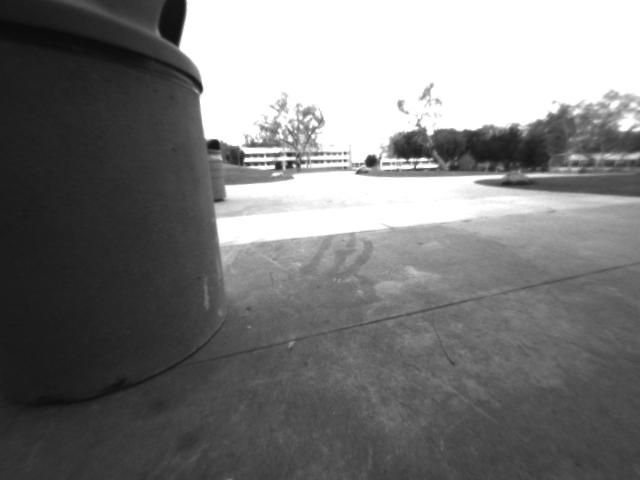trashcan: (3, 1, 254, 397)
